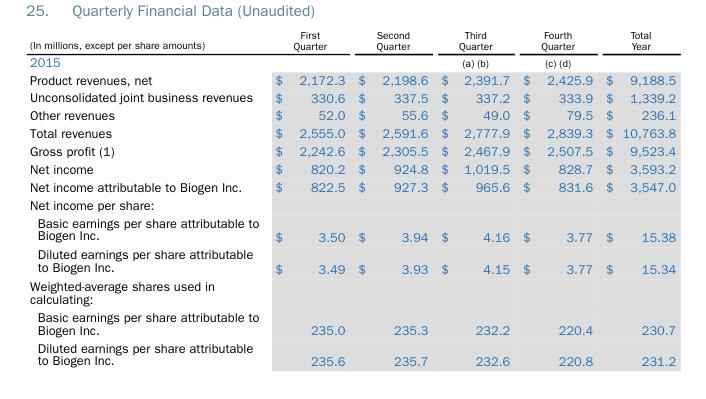table: (29, 28, 675, 367)
table column: (29, 28, 266, 367), (266, 28, 350, 367), (350, 28, 433, 367), (515, 28, 598, 367), (433, 28, 515, 367), (598, 28, 675, 367)
table column header: (29, 28, 675, 70)
table projected row header: (29, 277, 675, 307), (29, 195, 675, 213)
table row: (29, 28, 675, 70), (29, 213, 675, 245), (29, 245, 675, 277), (29, 307, 675, 338), (29, 277, 675, 307), (29, 338, 675, 367), (29, 70, 675, 88), (29, 88, 675, 106), (29, 123, 675, 141), (29, 141, 675, 159), (29, 159, 675, 177), (29, 177, 675, 195), (29, 195, 675, 213), (29, 106, 675, 123)
